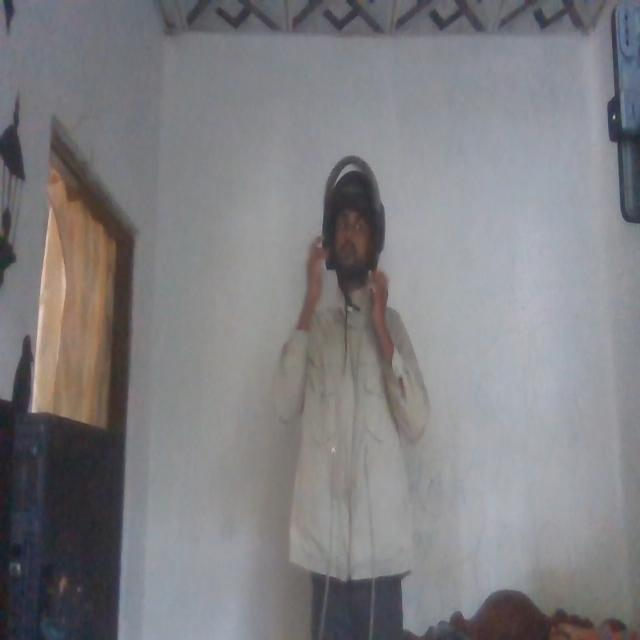Helmet_Wearer: (313, 150, 398, 304)
Jacket_Wearer: (268, 282, 443, 578)
Person: (272, 156, 442, 640)
